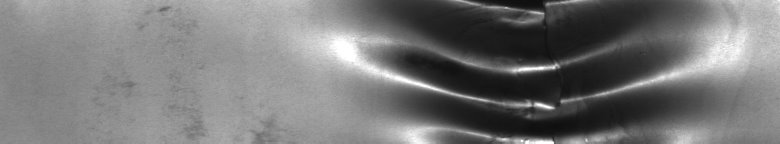ke: (355, 4, 700, 136)
